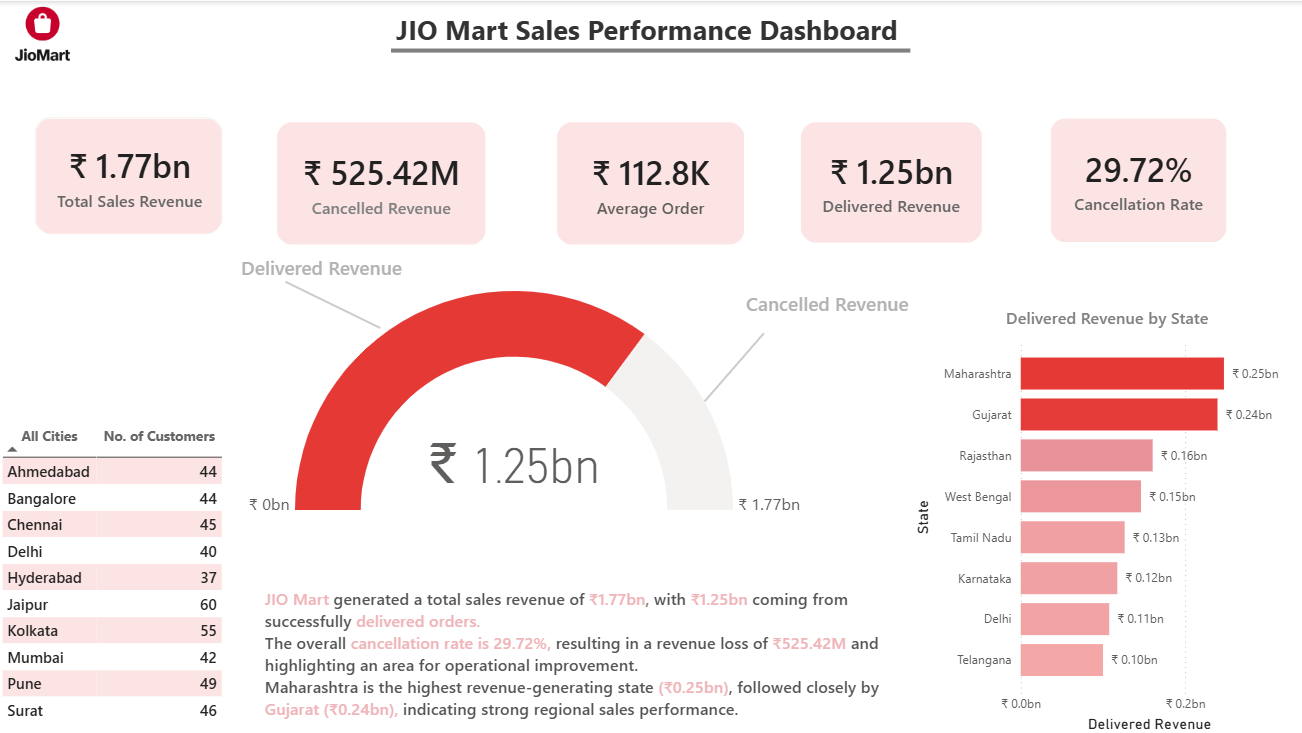

This screenshot's page, from the dashboard's own definition file:
{"tool":"powerbi","page":{"name":"Executive Overview","canvas":[1280,720],"ordinal":0},"visuals":[{"type":"cardVisual","fields":{"Data":["Table.Sales"]},"box":[20.8,96.6,218.9,149.2],"z":0},{"type":"cardVisual","fields":{"Data":["Table.Cancellation_Revenue"]},"box":[258,101,238.9,154.2],"z":1000},{"type":"cardVisual","fields":{"Data":["Table.Revenue"]},"box":[769.8,101,211.6,152.9],"z":2000},{"type":"cardVisual","fields":{"Data":["Table.Average_Order"]},"box":[532.3,101,217,154.2],"z":3000},{"type":"cardVisual","fields":{"Data":["Table.Cancellation_Rate"]},"box":[1015.5,98.3,206.1,155.6],"z":4000},{"type":"image","box":[0,0,91.7,67.3],"z":5000},{"type":"textbox","box":[386,5.1,814,62.4],"z":6000},{"type":"gauge","fields":{"Y":["Table.Revenue"],"MaxValue":["Table.Total Sales Revenue"]},"box":[226.6,278.7,582.2,229.3],"z":7000},{"type":"shape","box":[282.7,263.4,94.3,68.8],"z":8000},{"type":"textbox","box":[234.5,243.1,220.4,52.2],"z":9000},{"type":"shape","box":[675,324.5,94.3,68.8],"z":10000},{"type":"textbox","box":[728.5,278.7,184.7,43.3],"z":11000},{"type":"tableEx","fields":{"Values":["Customers.City","Customers.CustomerID"]},"box":[0,408.1,226.6,312.6],"z":12000},{"type":"shape","box":[386,14,508.3,70.1],"z":13000},{"type":"barChart","fields":{"Category":["Customers.State"],"Y":["Table.Revenue"]},"box":[894,298.9,386.3,421.8],"z":14000},{"type":"textbox","box":[258,533.7,622.4,187],"z":15000}]}

Visuals, with their boxes in screenshot pixels (x1, y1, x2, y2), scaled from the page's 1280x720 canvas onto the 1302x733 screenshot:
cardVisual - Table.Sales: pyautogui.locateOnScreen(21, 98, 244, 250)
cardVisual - Table.Cancellation_Revenue: pyautogui.locateOnScreen(262, 103, 505, 260)
cardVisual - Table.Revenue: pyautogui.locateOnScreen(783, 103, 998, 258)
cardVisual - Table.Average_Order: pyautogui.locateOnScreen(541, 103, 762, 260)
cardVisual - Table.Cancellation_Rate: pyautogui.locateOnScreen(1033, 100, 1243, 258)
image: pyautogui.locateOnScreen(0, 0, 93, 69)
textbox: pyautogui.locateOnScreen(393, 5, 1221, 69)
gauge - Table.Revenue x Table.Total Sales Revenue: pyautogui.locateOnScreen(230, 284, 823, 517)
shape: pyautogui.locateOnScreen(288, 268, 383, 338)
textbox: pyautogui.locateOnScreen(239, 247, 463, 301)
shape: pyautogui.locateOnScreen(687, 330, 783, 400)
textbox: pyautogui.locateOnScreen(741, 284, 929, 328)
tableEx - Customers.City x Customers.CustomerID: pyautogui.locateOnScreen(0, 415, 230, 732)
shape: pyautogui.locateOnScreen(393, 14, 910, 86)
barChart - Customers.State x Table.Revenue: pyautogui.locateOnScreen(909, 304, 1301, 732)
textbox: pyautogui.locateOnScreen(262, 543, 896, 732)
